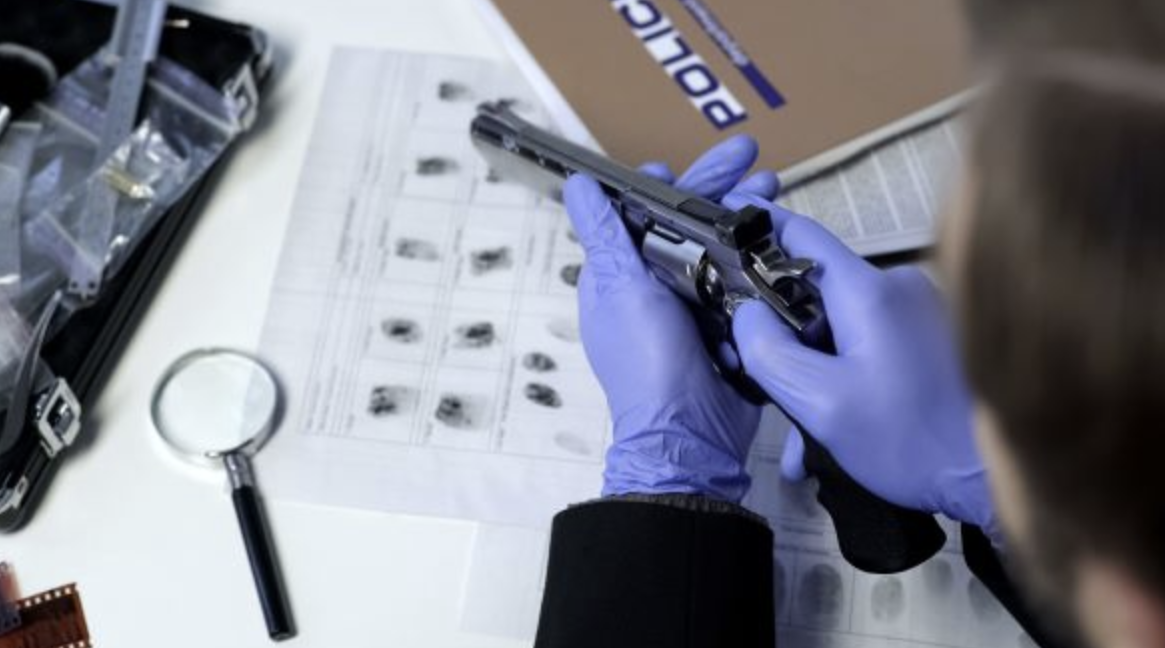gun_026: (460, 91, 956, 581)
